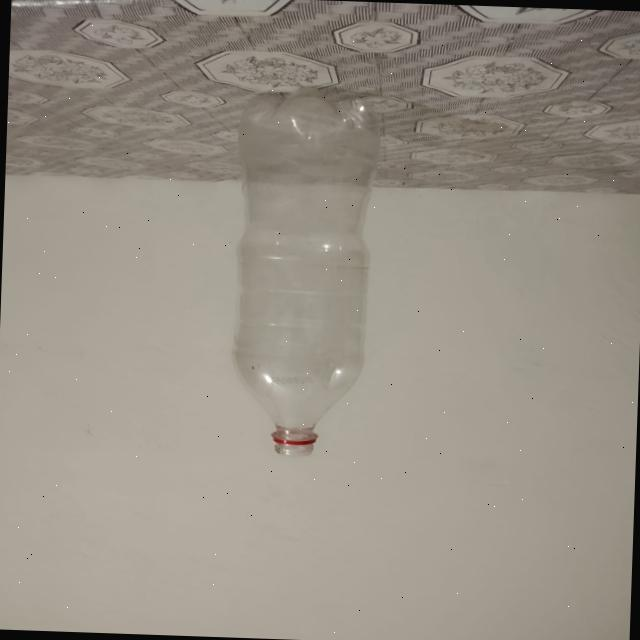bottle: (224, 80, 380, 461)
